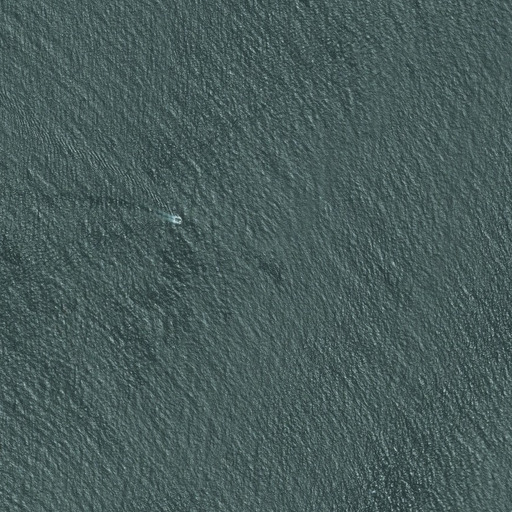ship: (167, 214, 184, 227)
